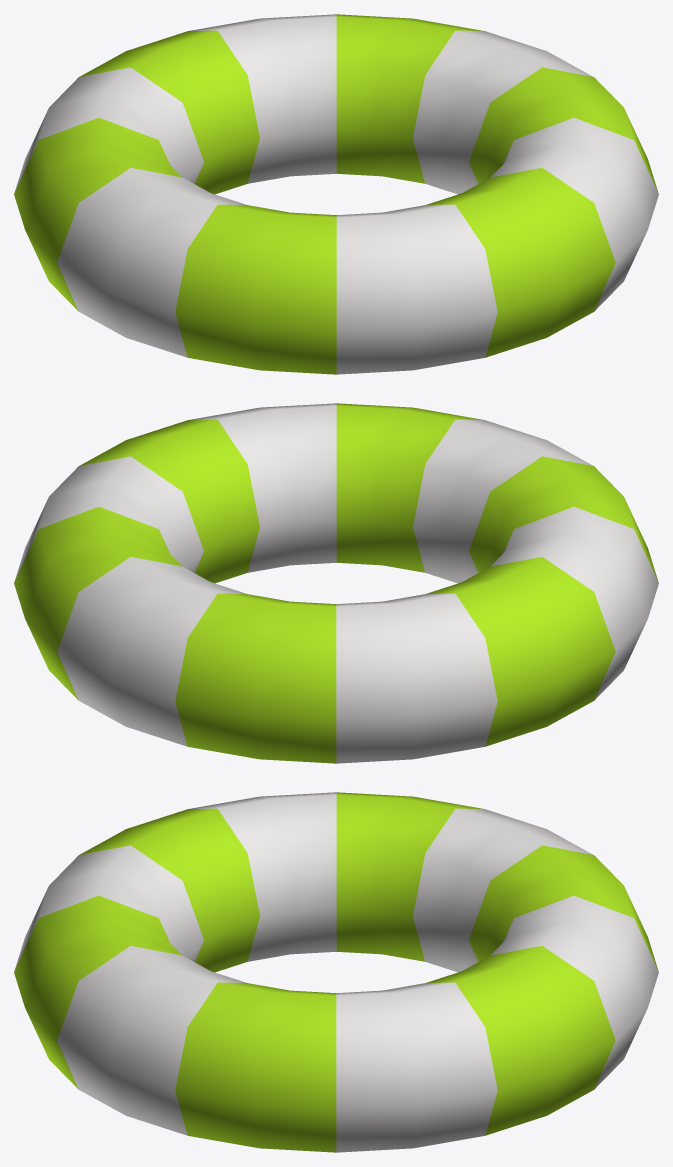
The model's file is BathingRing.fbx.
3 renders of one model, top to bottom at view 1: azimuth 30°, elevation 25°; view 2: azimuth 150°, elevation 25°; view 3: azimuth 270°, elevation 25°, orthographic.
Parts seen in each view (by area): view 1: Torus; view 2: Torus; view 3: Torus.
Part boxes in pixels (<box>): Torus: <box>14,14,658,374</box>; Torus: <box>14,403,658,763</box>; Torus: <box>14,792,658,1152</box>.
Size of the model in its own units: 0.57 by 0.15 by 0.57.
